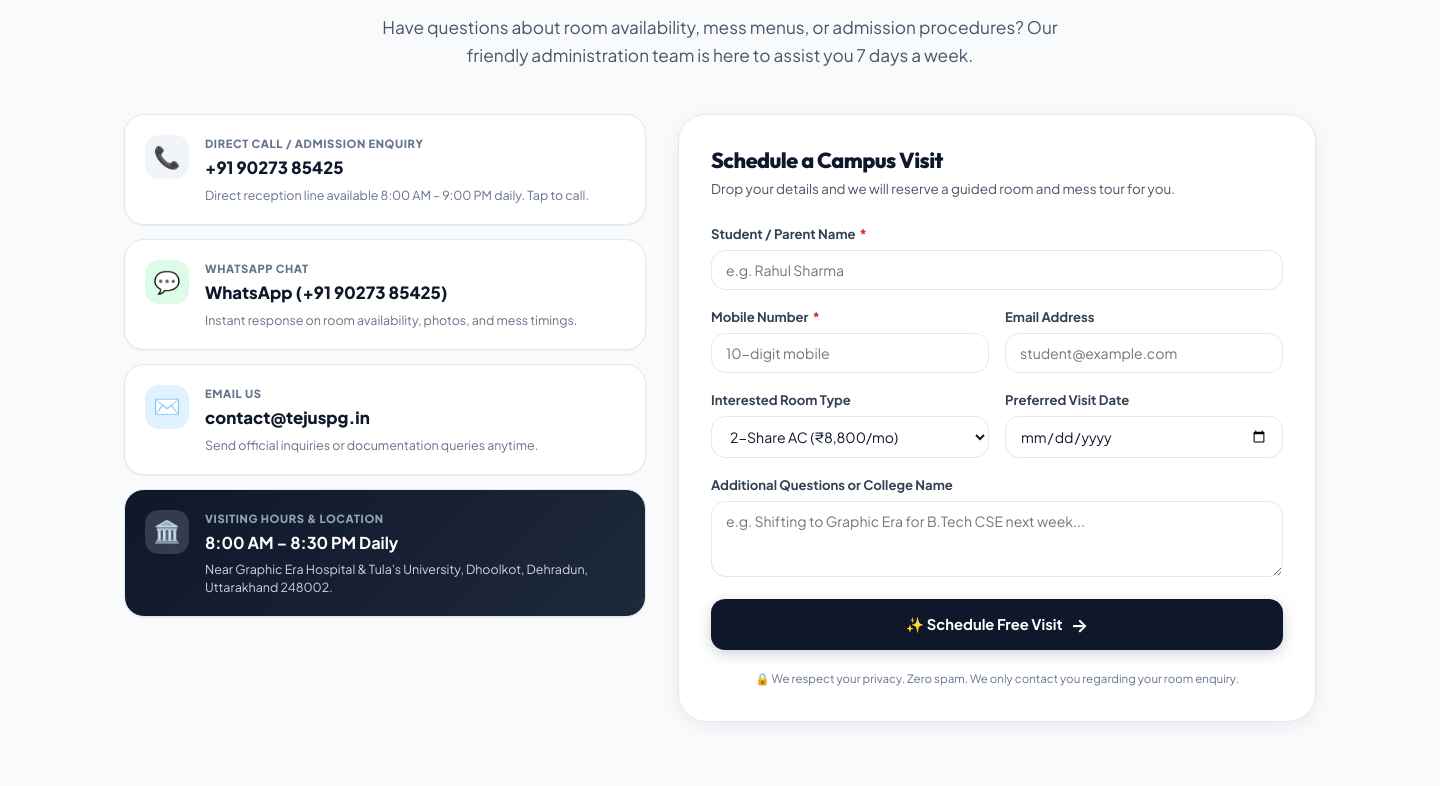
Test case: ContactSection Component › validates and submits visit schedule form
The width and height of the screenshot is (1440, 786).
(page scrolled)
Click the button "✨ Schedule Free Visit →" at (997, 625), box [711,600,1283,650]
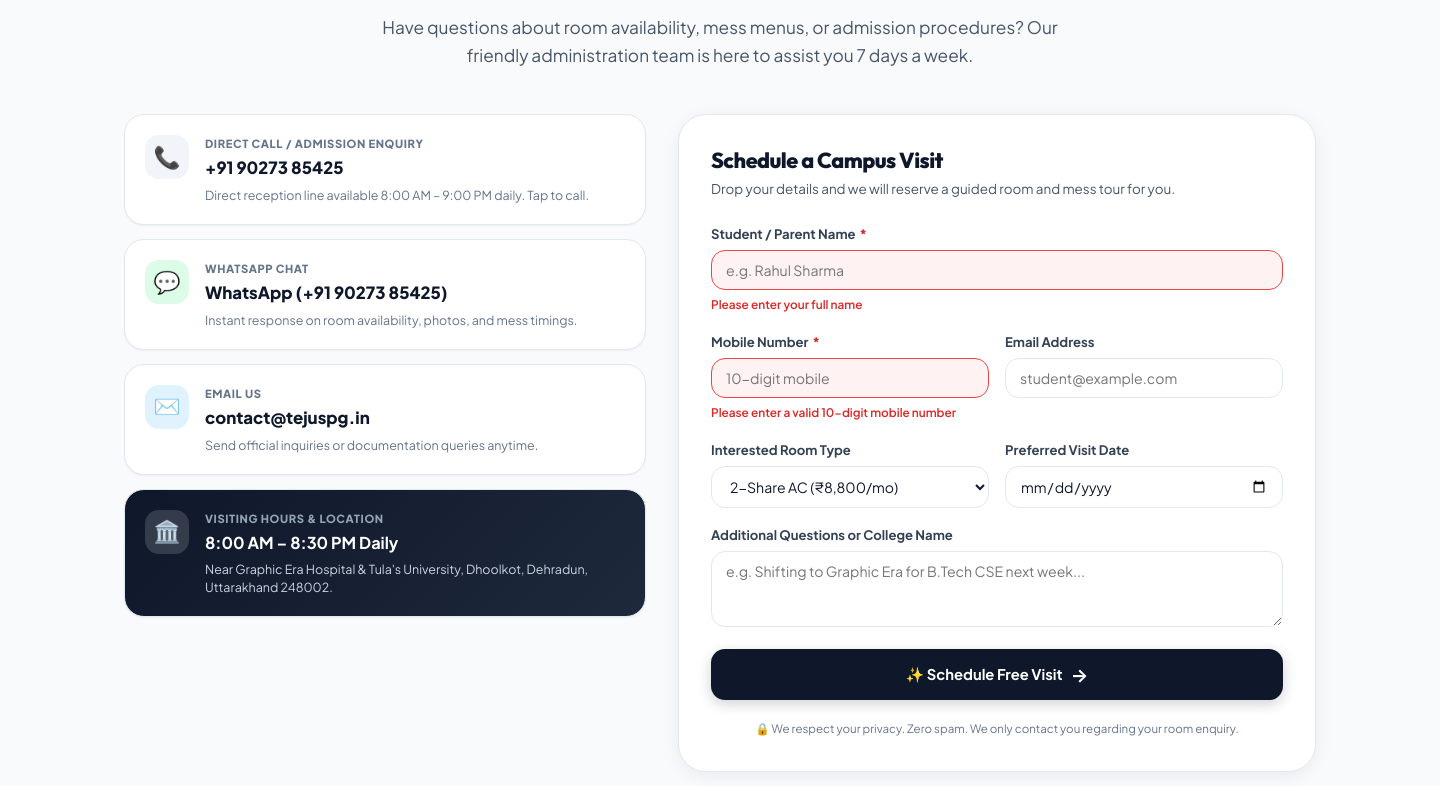
Type "Rahul Sharma" into the field labelled "Student / Parent Name *" at (997, 270), box [711,250,1283,290]
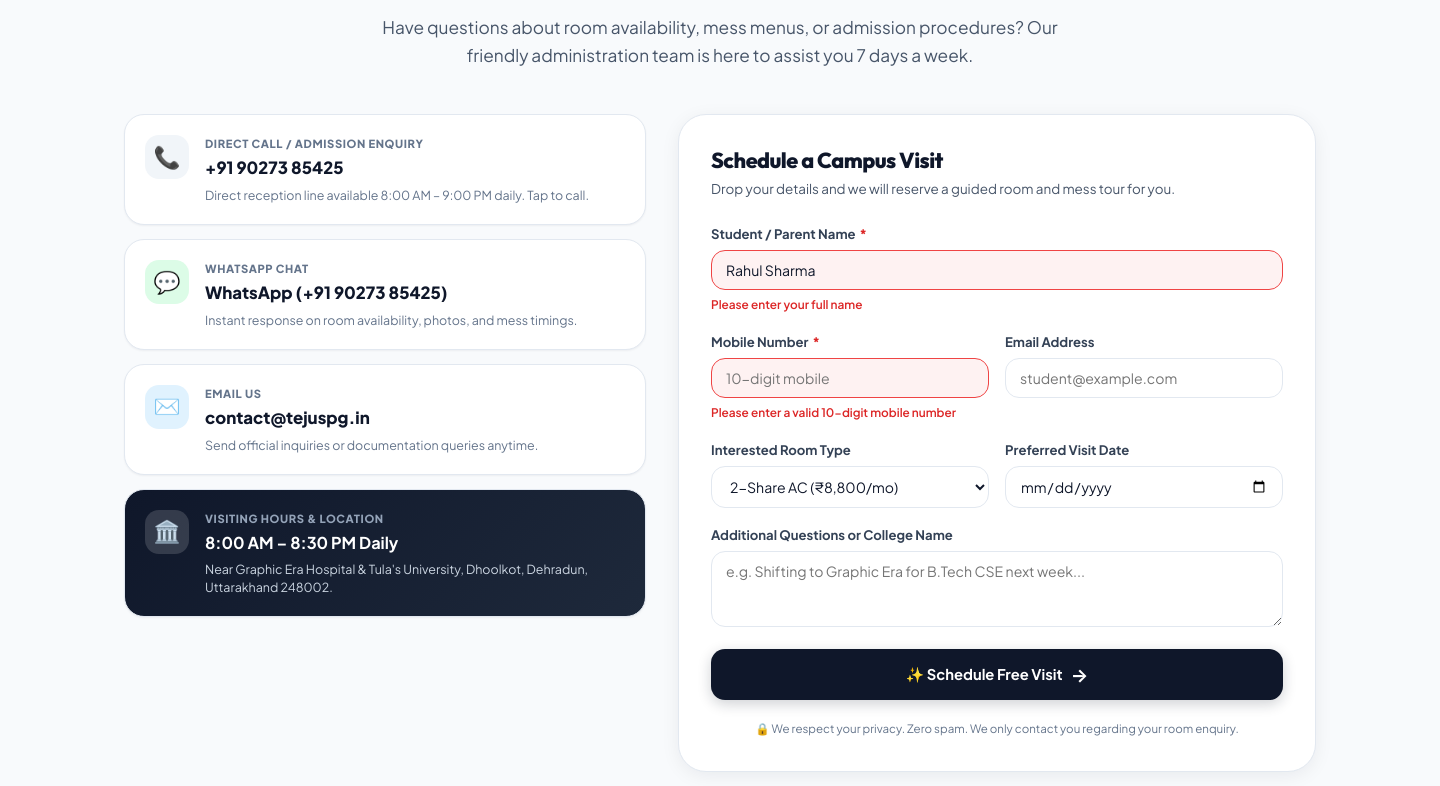
Type "9876543210" into the field labelled "Mobile Number *" at (850, 378), box [711,358,989,398]
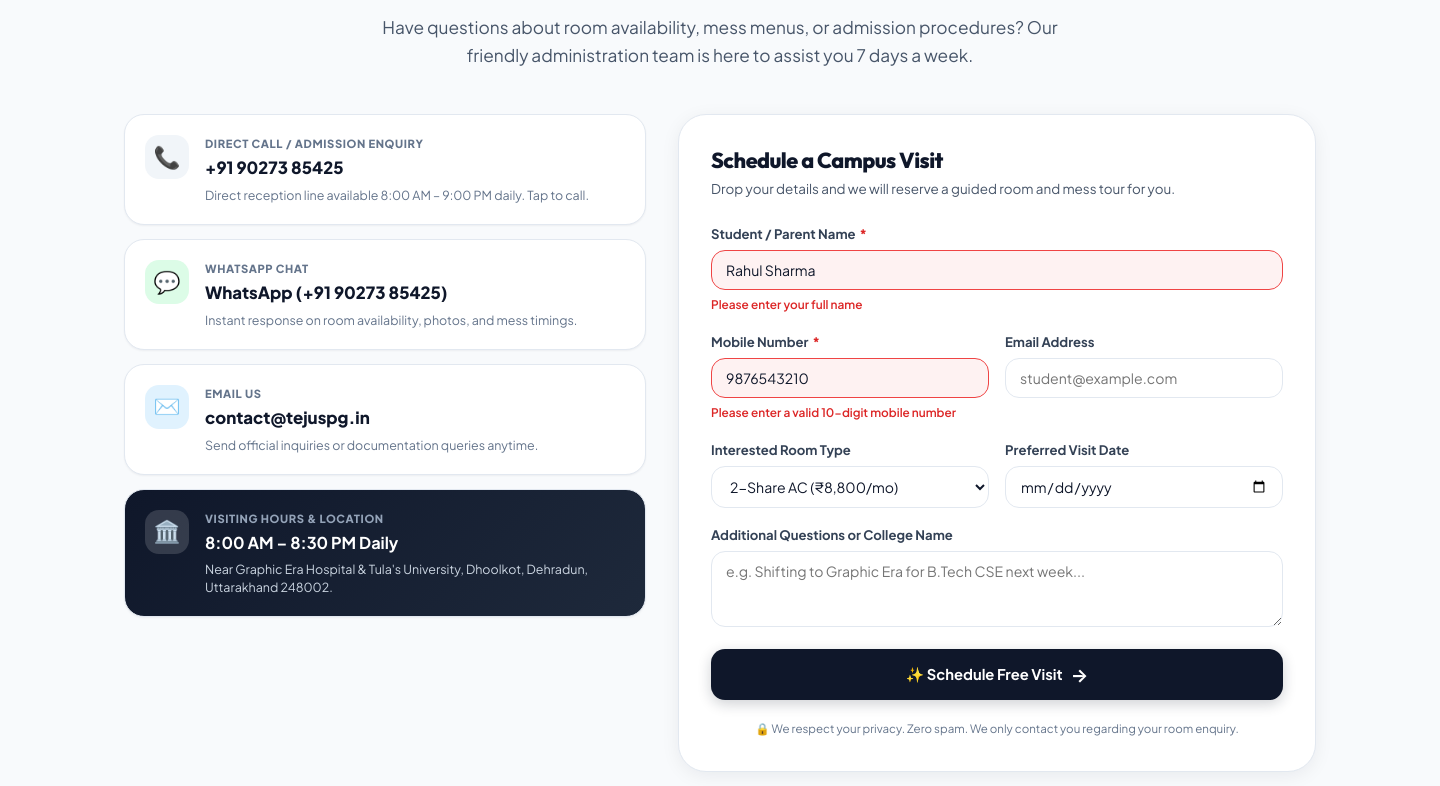
Click the button "✨ Schedule Free Visit →" at (997, 675), box [711,649,1283,700]
(page scrolled)
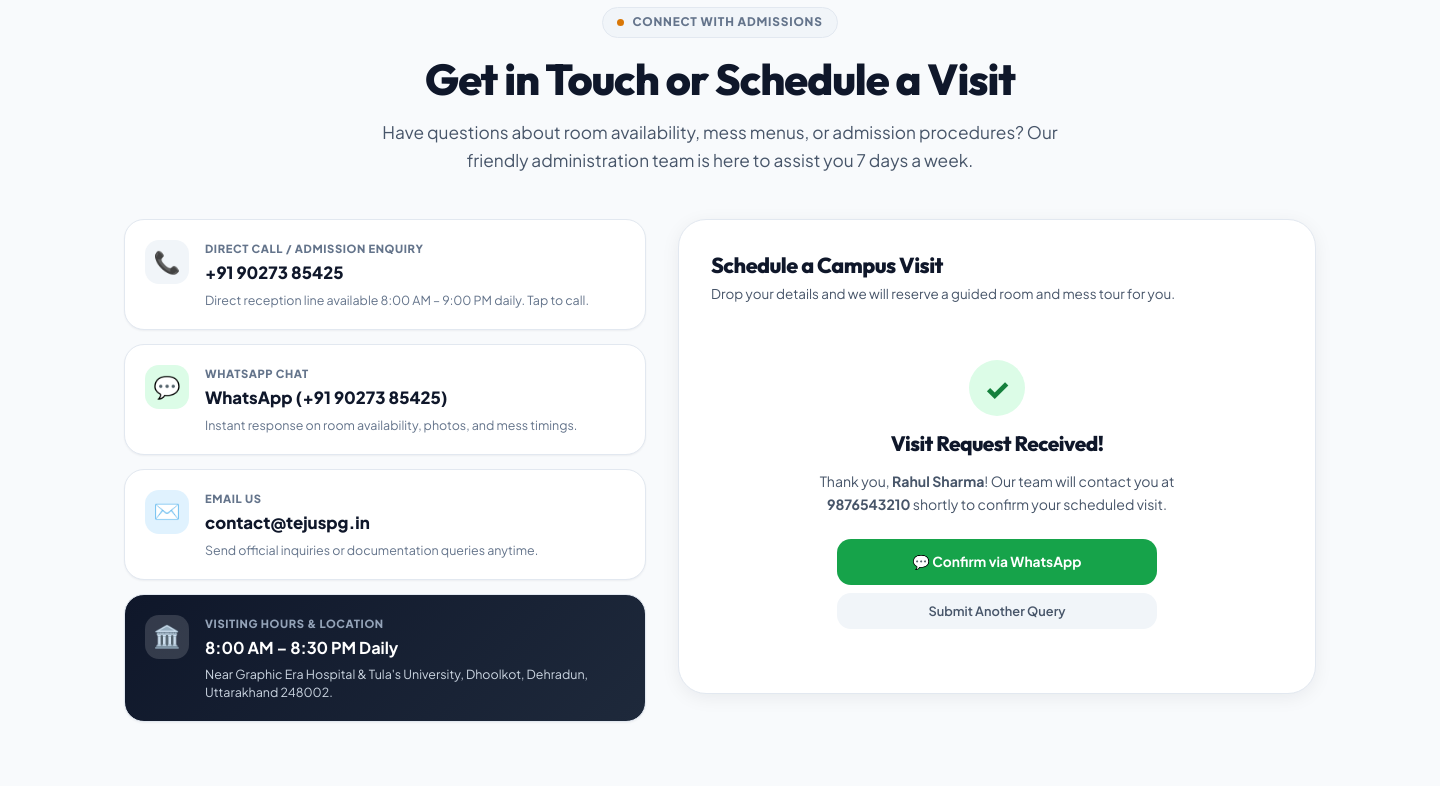
Result: the heading "Visit Request Received!" is shown at [891,430,1103,456]
Result: the text "Rahul Sharma" is shown at [892,472,984,490]
